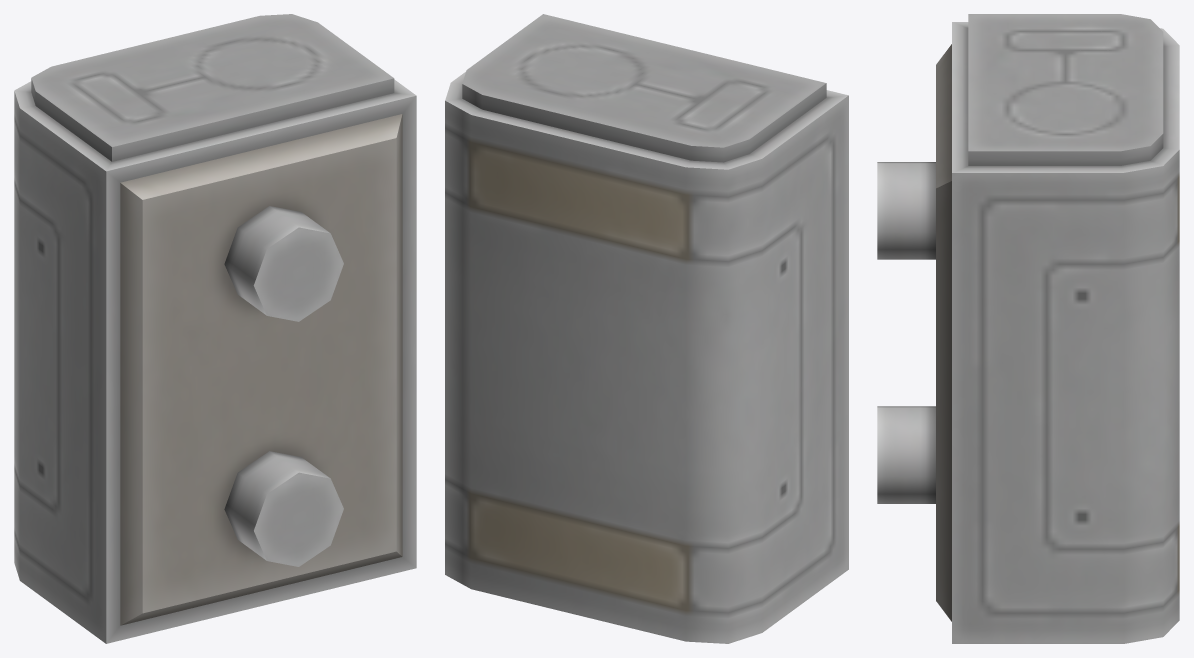
Rendered from Alniyat_Engine_2.obj.
3 views of the same model, side by side, from view 1: azimuth 30°, elevation 25°; view 2: azimuth 150°, elevation 25°; view 3: azimuth 270°, elevation 25° (orthographic).
Visible parts, largest first — view 1: Alniyat_Engine_2; view 2: Alniyat_Engine_2; view 3: Alniyat_Engine_2.
Boxes of the visible parts, x1,y1,x2,y2 form: Alniyat_Engine_2: (14,14,416,643); Alniyat_Engine_2: (445,14,848,643); Alniyat_Engine_2: (877,14,1179,643).
Size of the model in its own units: 0.275 by 0.4125 by 0.2325.
